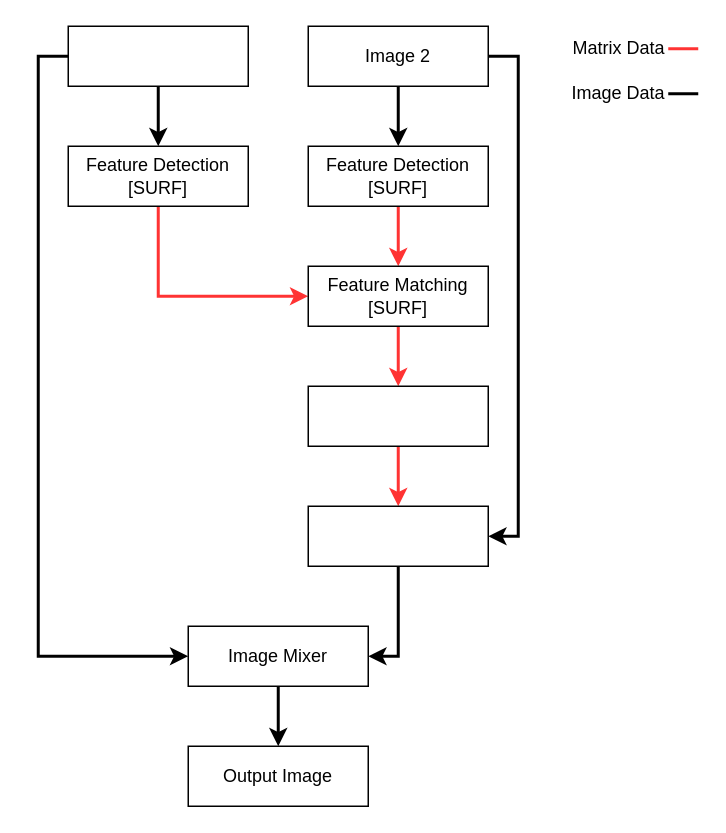
Image size: 726x833. Some labels were removed from this diagram. The shapes that lost their labels are listed below. From the top down, each one's centre as x and y in pixels, then its label:
At (x=157, y=55): "Image 1".
At (x=397, y=415): "Transformation Matrix Calculation".
At (x=397, y=535): "Image Transformation".
